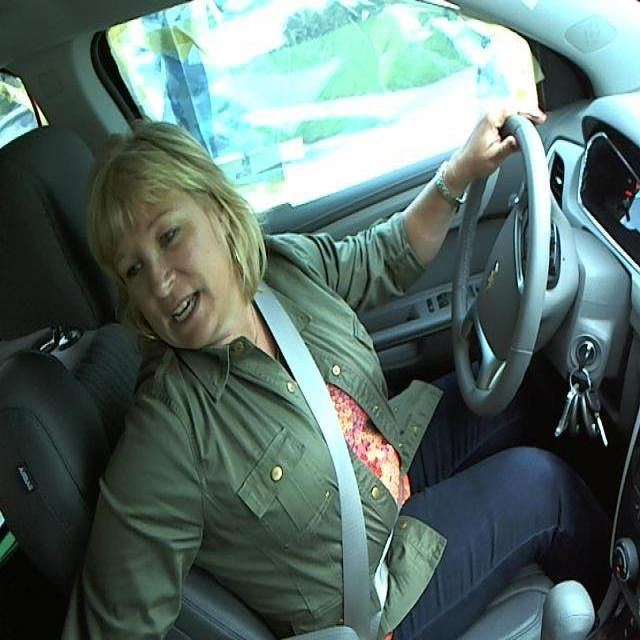seatbelt: (248, 305, 386, 616)
